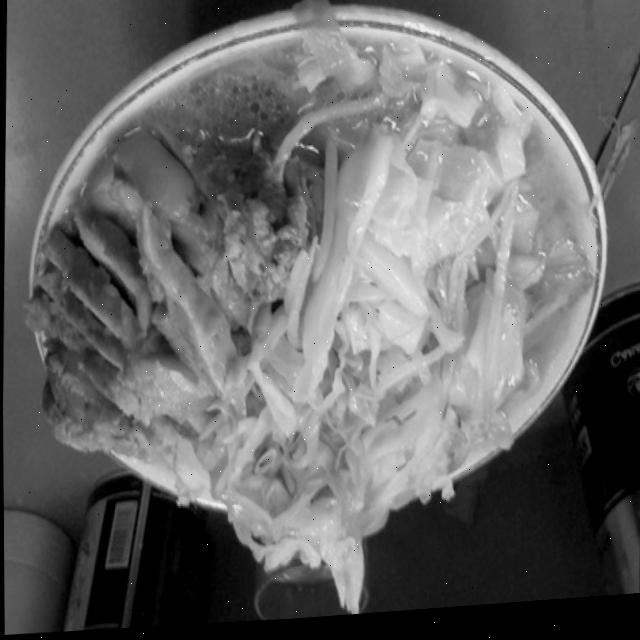面条主食: (15, 0, 614, 639)
